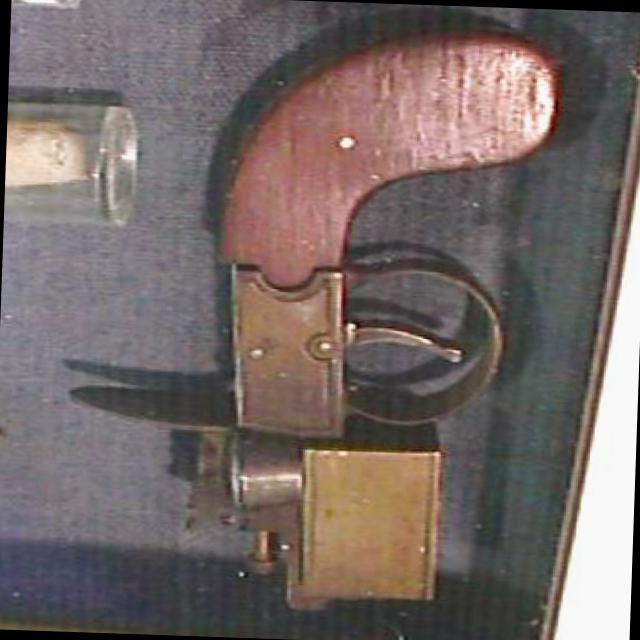handgun: (188, 29, 561, 628)
